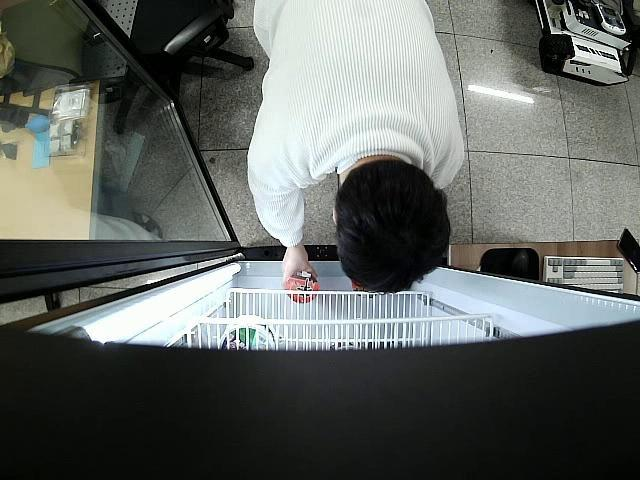02_shinRamen_S: (286, 272, 318, 304)
